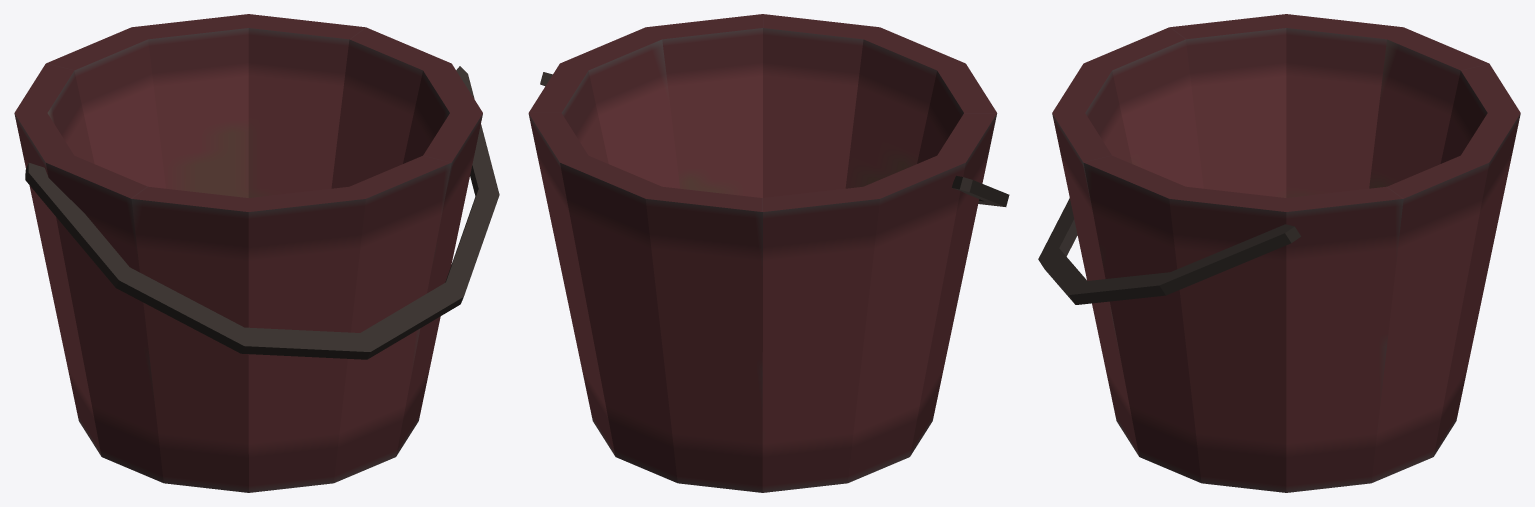
Rendered from obj_trashcan.fbx.
3 renders of one model, left to right at view 1: azimuth 30°, elevation 25°; view 2: azimuth 150°, elevation 25°; view 3: azimuth 270°, elevation 25°, orthographic.
Parts seen in each view (by area): view 1: obj_trashcan; view 2: obj_trashcan; view 3: obj_trashcan.
Boxes of the visible parts, left/top/right/bottom form: obj_trashcan: left=14, top=14, right=499, bottom=492; obj_trashcan: left=528, top=14, right=1009, bottom=492; obj_trashcan: left=1038, top=14, right=1520, bottom=492.
Size of the model in its own units: 36.92 by 25.06 by 35.59.
